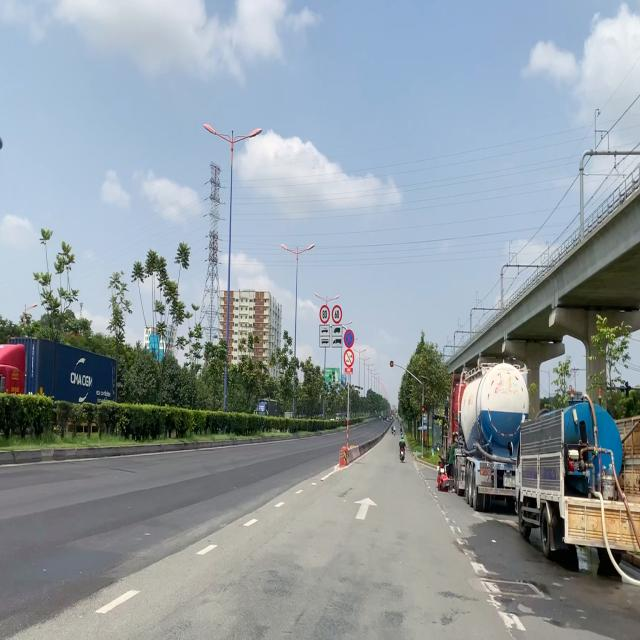Cam dung va do: (343, 329, 355, 349)
Toc do toi da: (331, 305, 342, 324), (319, 305, 330, 323)
